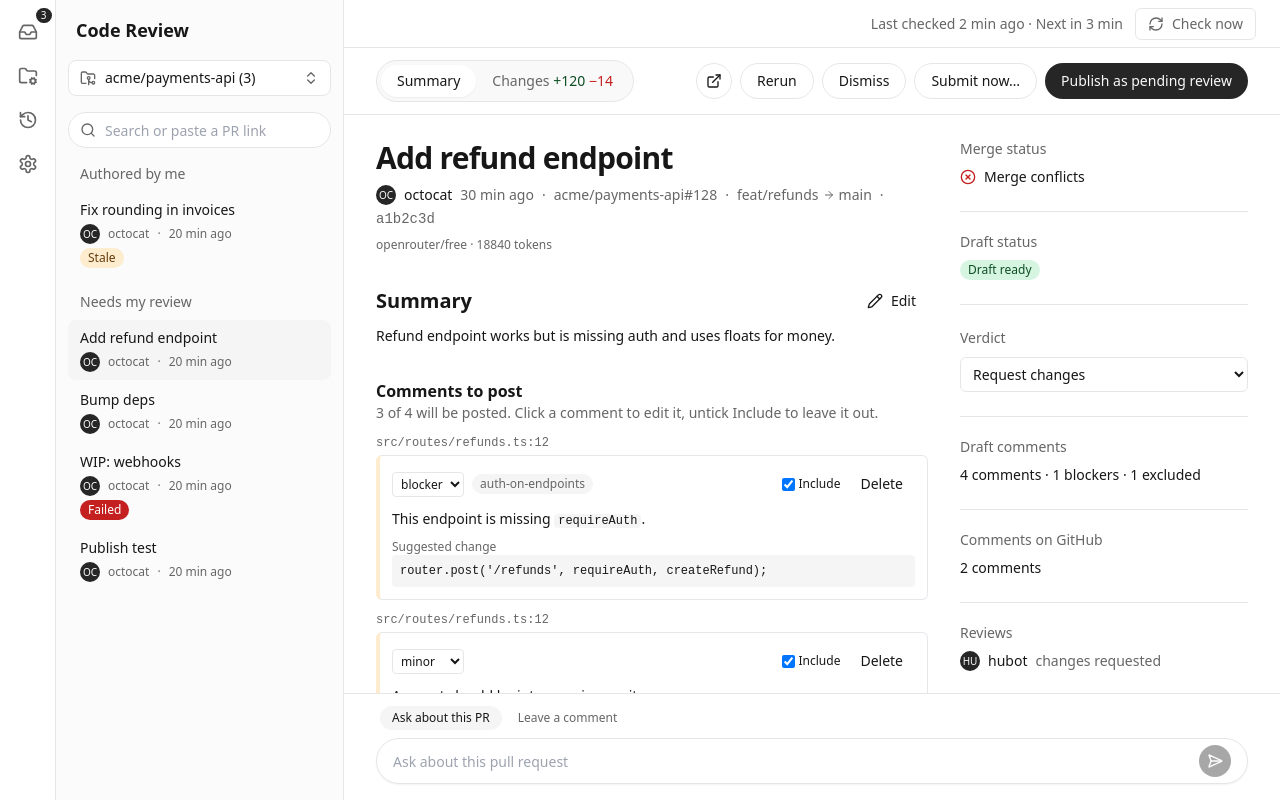
AppShell › switches project from the sidebar and lists only that project
This screenshot has width=1280, height=800.
expect the text "Add refund endpoint" is shown: met, box [80,328,217,347]
Select "acme/legacy" in the dropdown named "Project" at (200, 78), box [68,60,331,96]
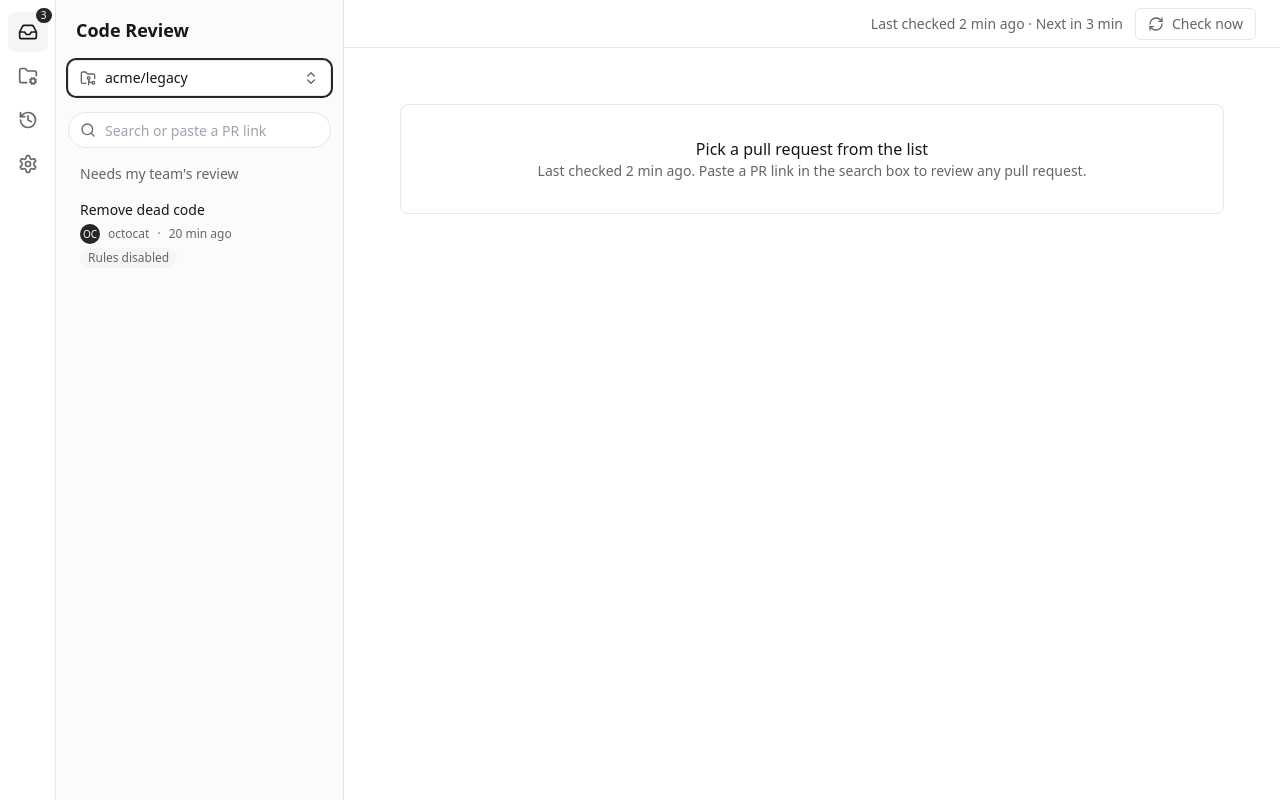
expect the text "Remove dead code" is shown: met, box [80,200,205,219]
expect the heading "Needs my team's review" is shown: met, box [80,164,239,183]
expect the link "Add refund endpoint" is gone: met
